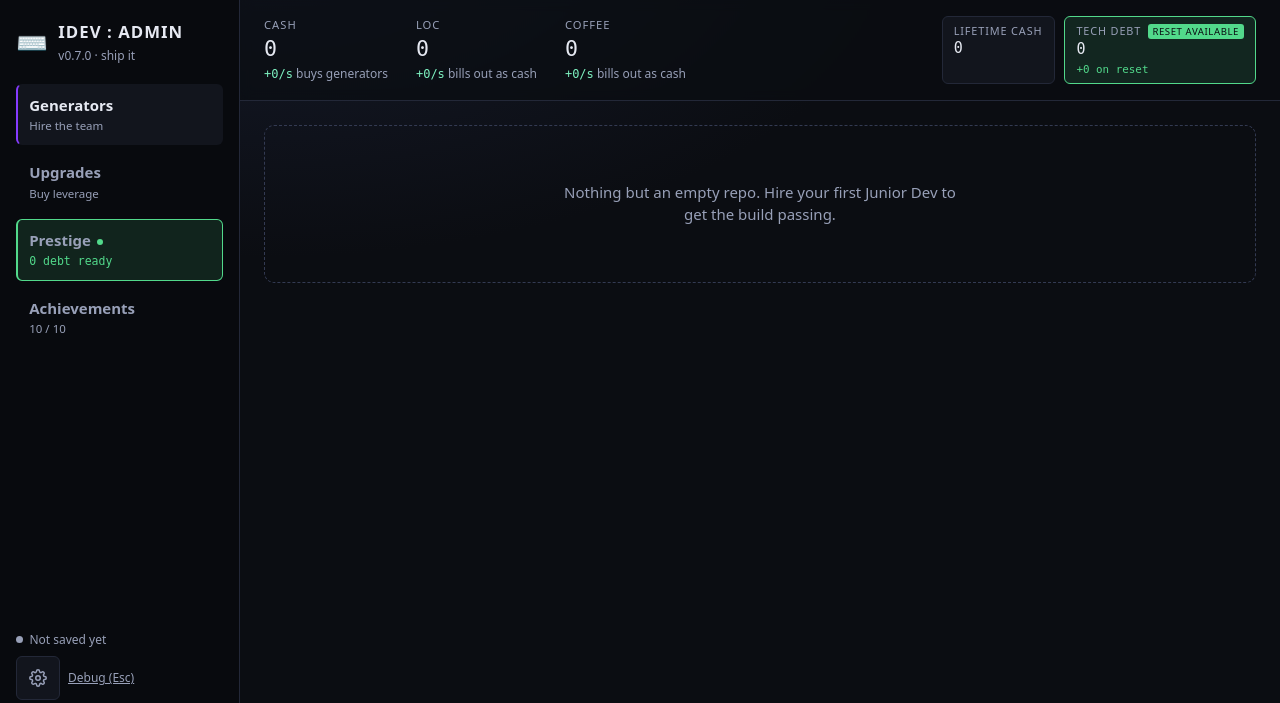
App – purchases through the UI › locks upgrades whose requirements are unmet
Click the button "Upgrades Buy leverage".
click(120, 182)  # box [16,152,223,213]
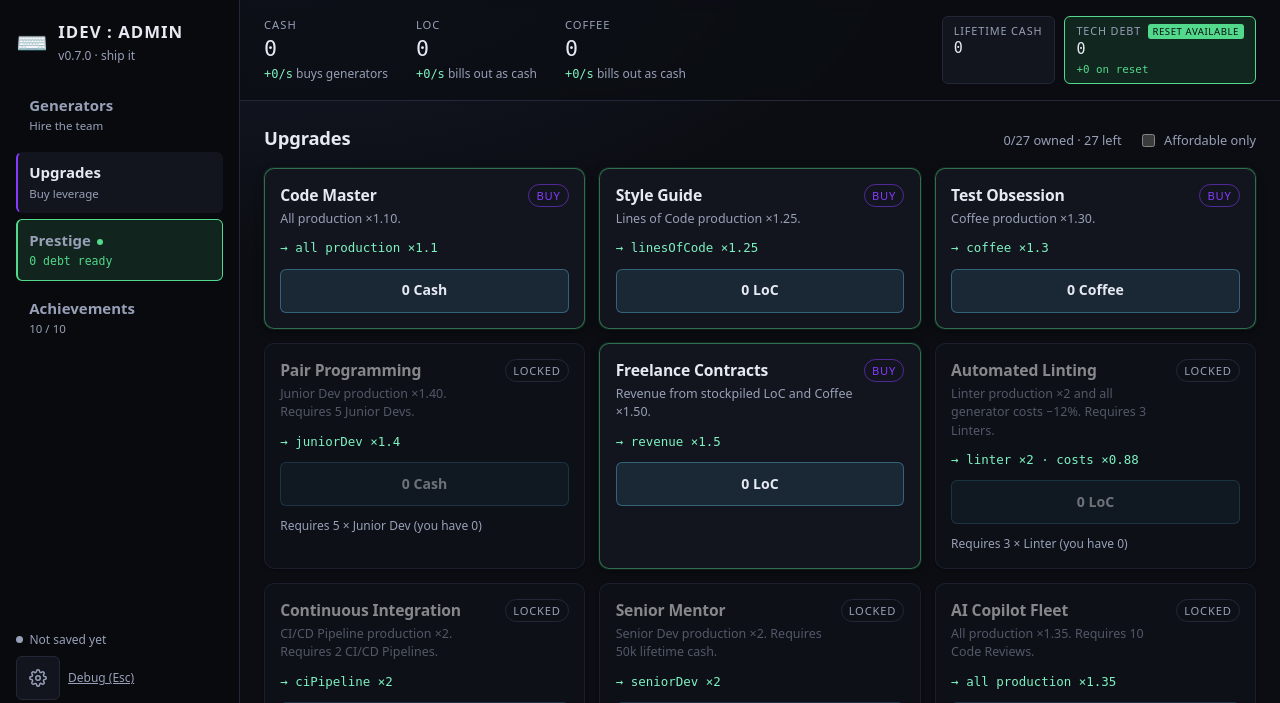
Expected: the text "Junior Dev production ×1.40. Requires 5 Junior Devs." is shown, [280,385,446,420]
